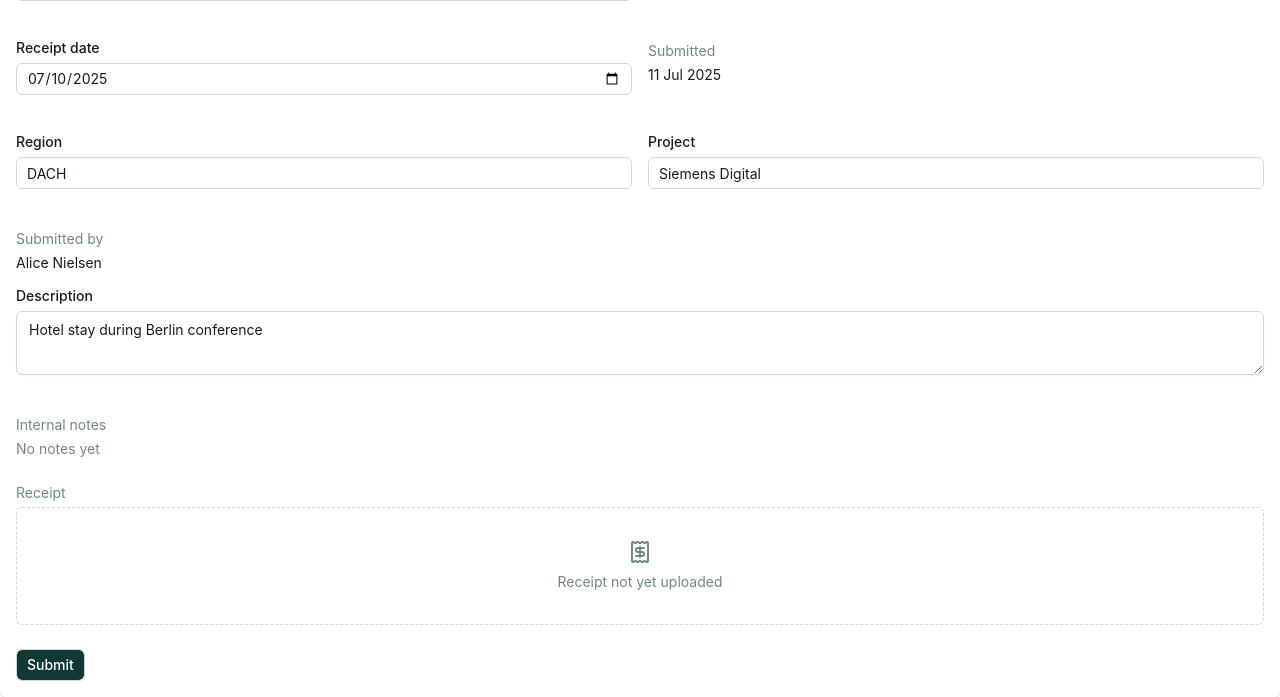
ExpenseDetailCard › resubmit › loading state › disables the button with a loading label derived from buttonLabel
(page scrolled)
Click the button "Submit": (50, 665) [16,649,85,681]
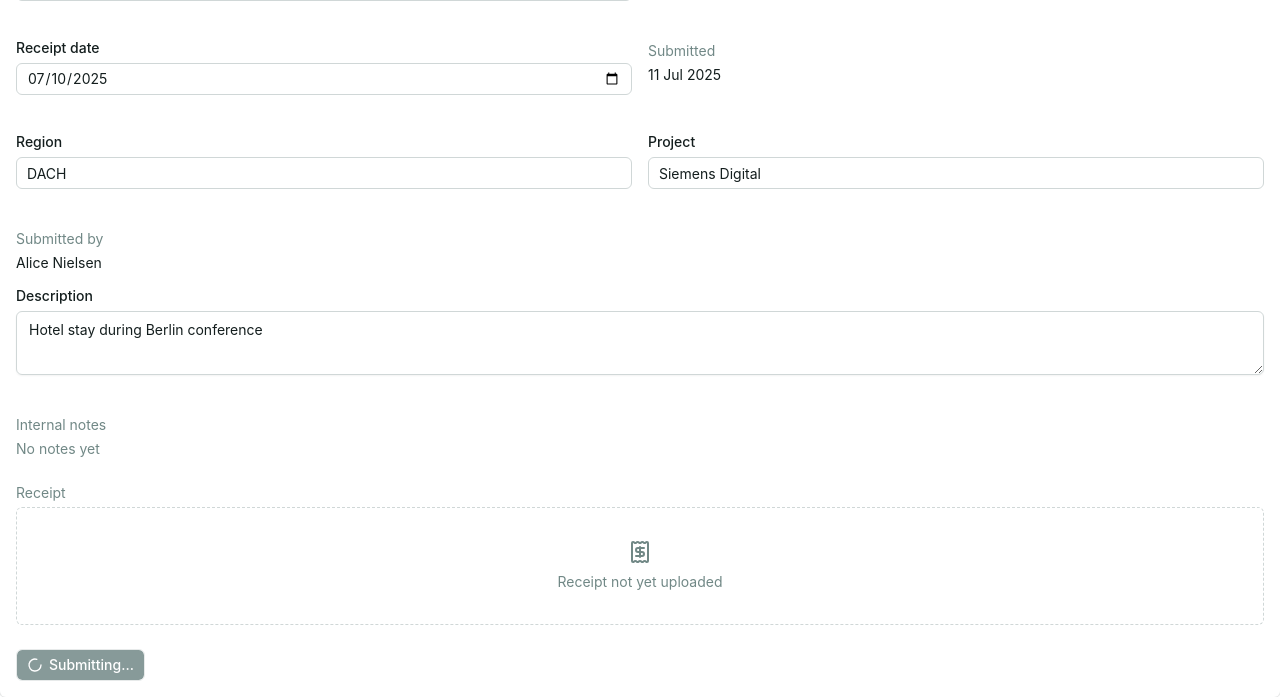
Result: the button "Submitting…" is disabled at [16,649,145,681]
